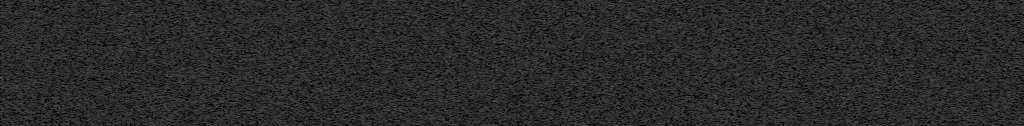wv_am: (805, 0, 811, 126), (794, 0, 800, 126), (30, 0, 35, 126), (856, 0, 861, 116), (856, 117, 861, 126)
wv_cw: (2, 0, 7, 126)
wv_lsb: (42, 52, 48, 126), (848, 1, 853, 50), (42, 24, 48, 51), (848, 51, 853, 79), (848, 98, 853, 116), (848, 80, 853, 97), (848, 117, 853, 126), (42, 16, 47, 23), (668, 112, 671, 119), (668, 62, 672, 67), (668, 102, 672, 105), (668, 56, 672, 59), (668, 106, 671, 109)
wv_usb: (789, 0, 794, 104), (789, 105, 794, 126)
